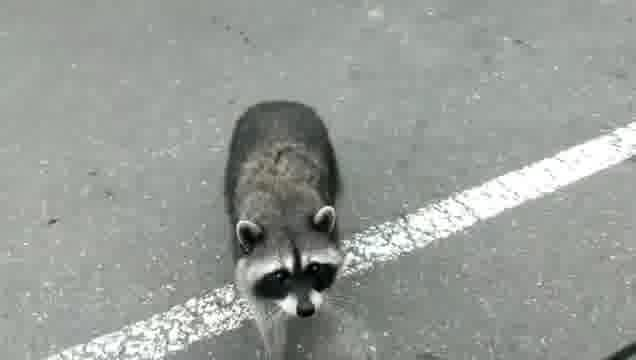raccoon: (225, 100, 347, 360)
